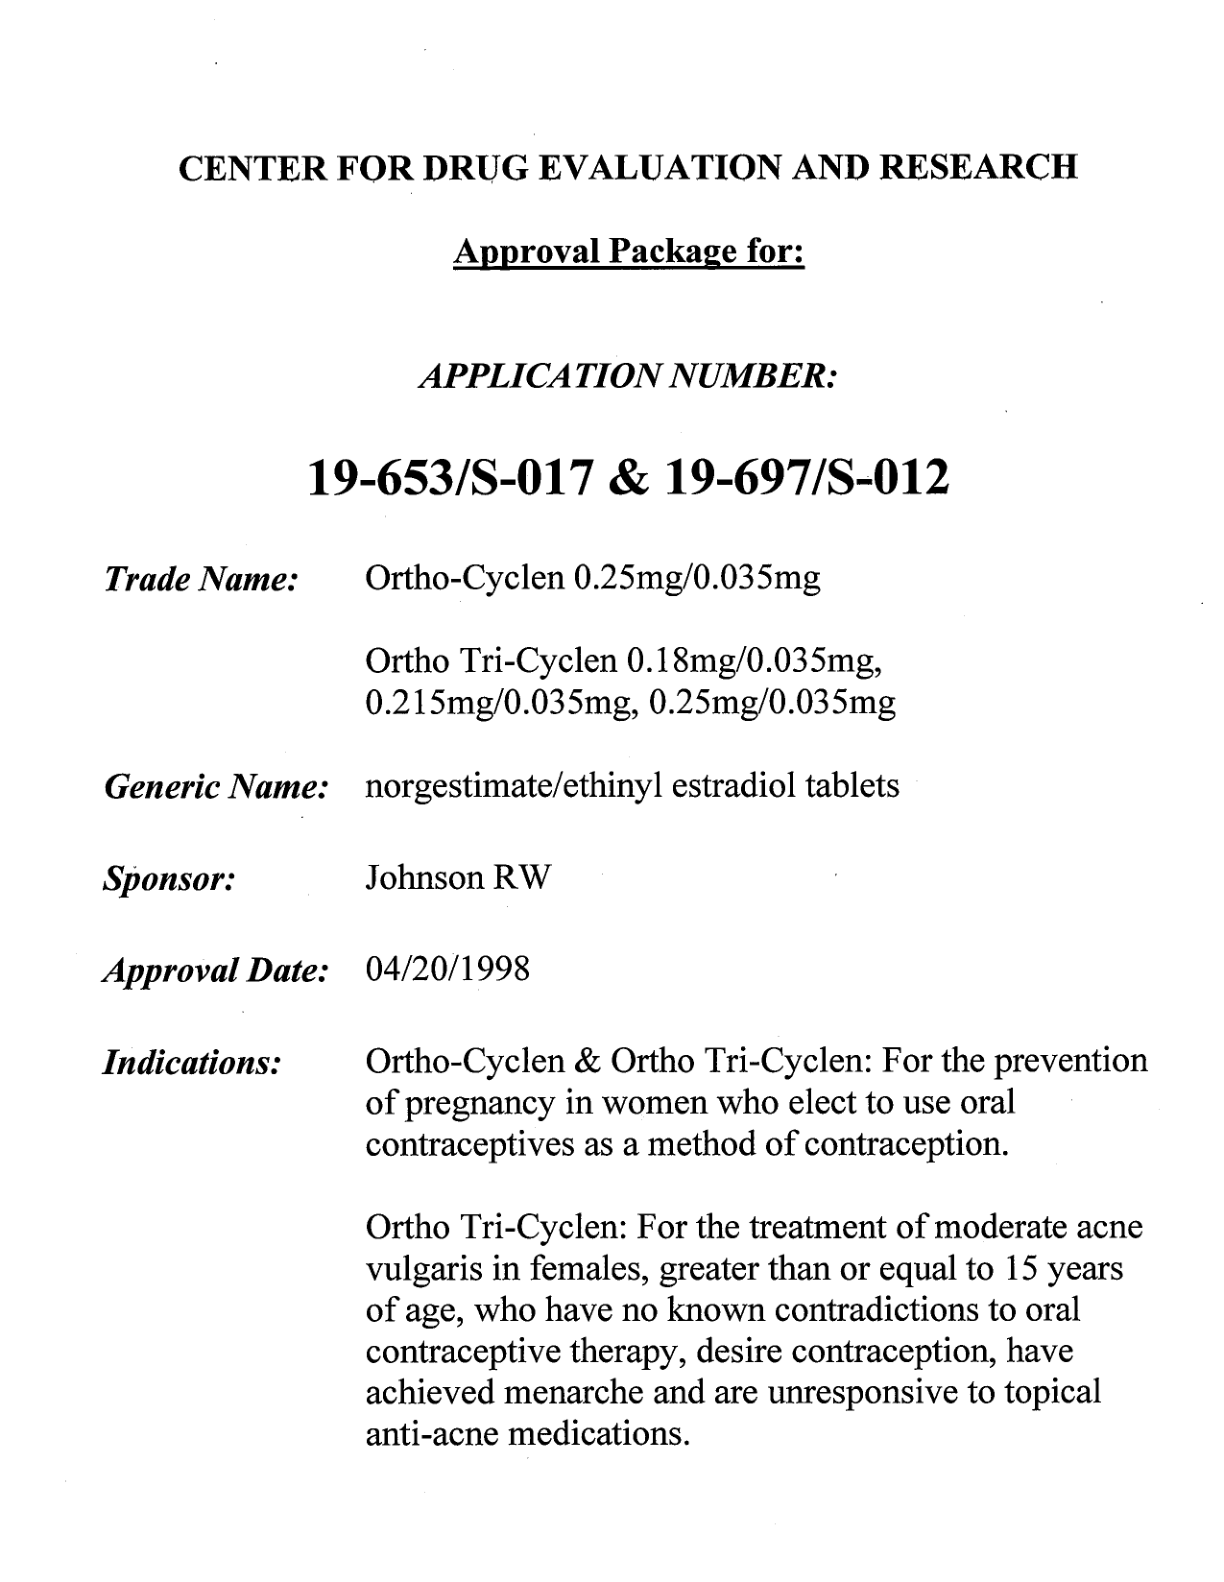nolines: (100, 559, 1151, 1454)
